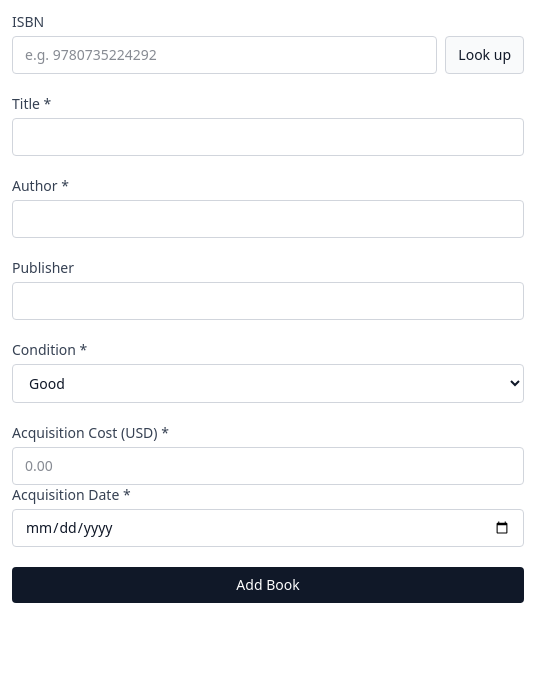
Test: AddBookForm › surfaces a generic submission error when the server returns a non-201/422 status with an error message
The width and height of the screenshot is (542, 678).
Type "Some Title" into the field below "Title *".
click(268, 137); type("Some Title")  # box [12,118,524,156]
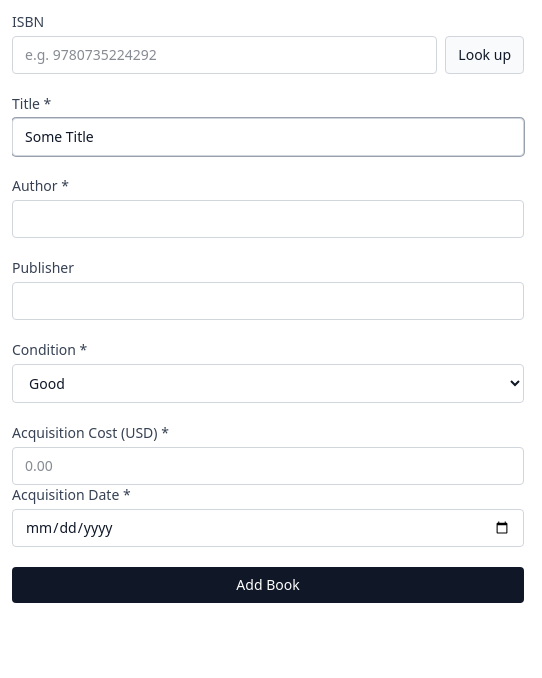
Type "Some Author" into the field below "Author *".
click(268, 219); type("Some Author")  # box [12,200,524,238]
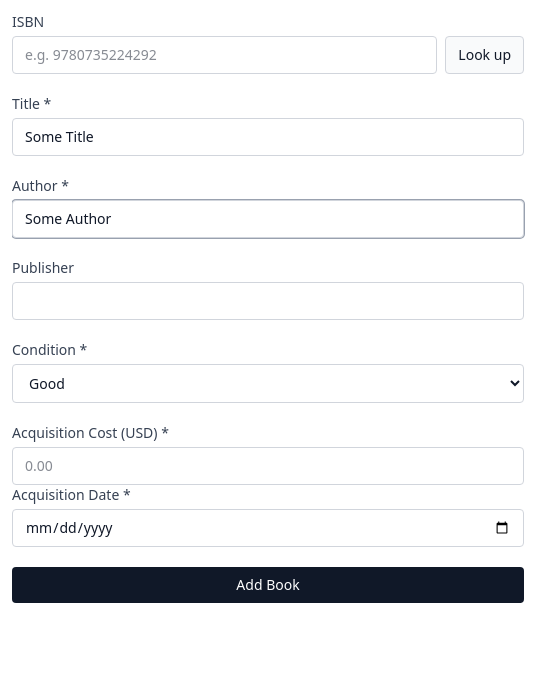
Type "12.5" into the number field with placeholder "0.00".
click(268, 466); type("12.5")  # box [12,447,524,485]
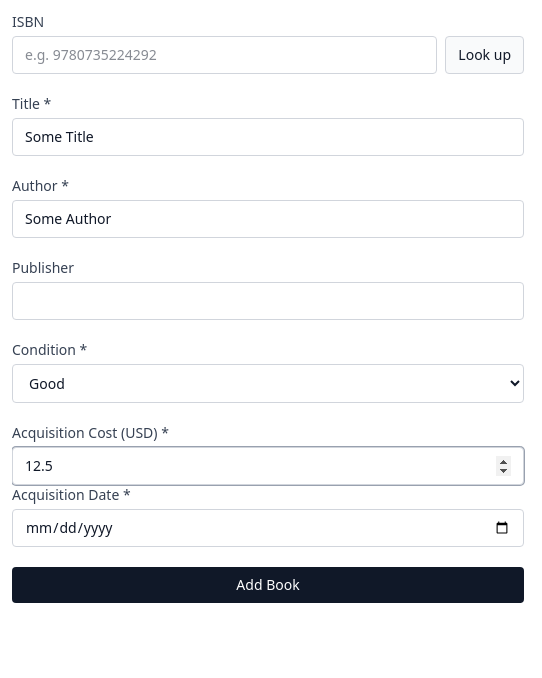
Type "2026-01-15" into the date field.
click(268, 528); type("2026-01-15")  # box [12,509,524,547]
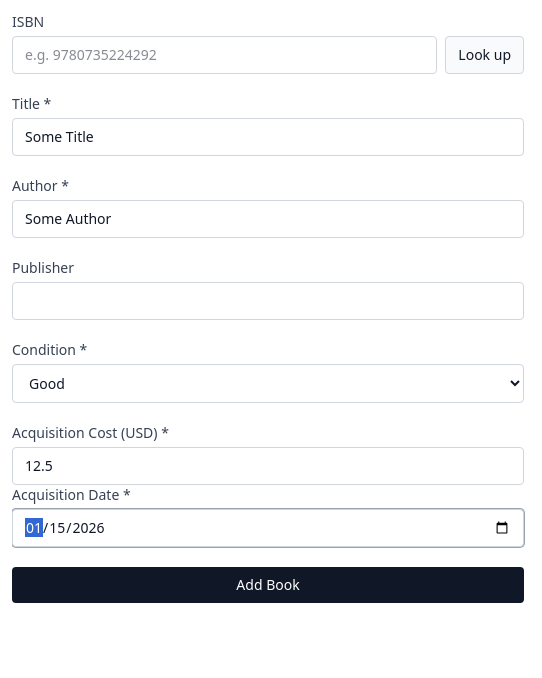
Click the button "Add Book".
click(268, 585)  # box [12,567,524,603]
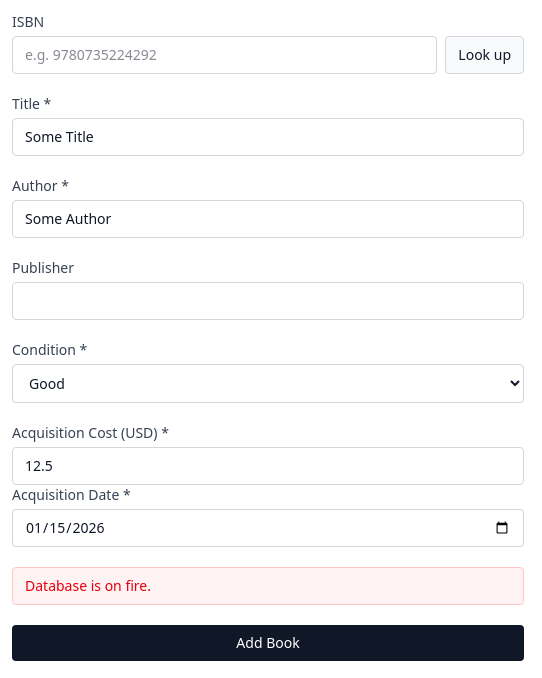
Result: the text "Database is on fire." is shown at [12,567,524,605]
